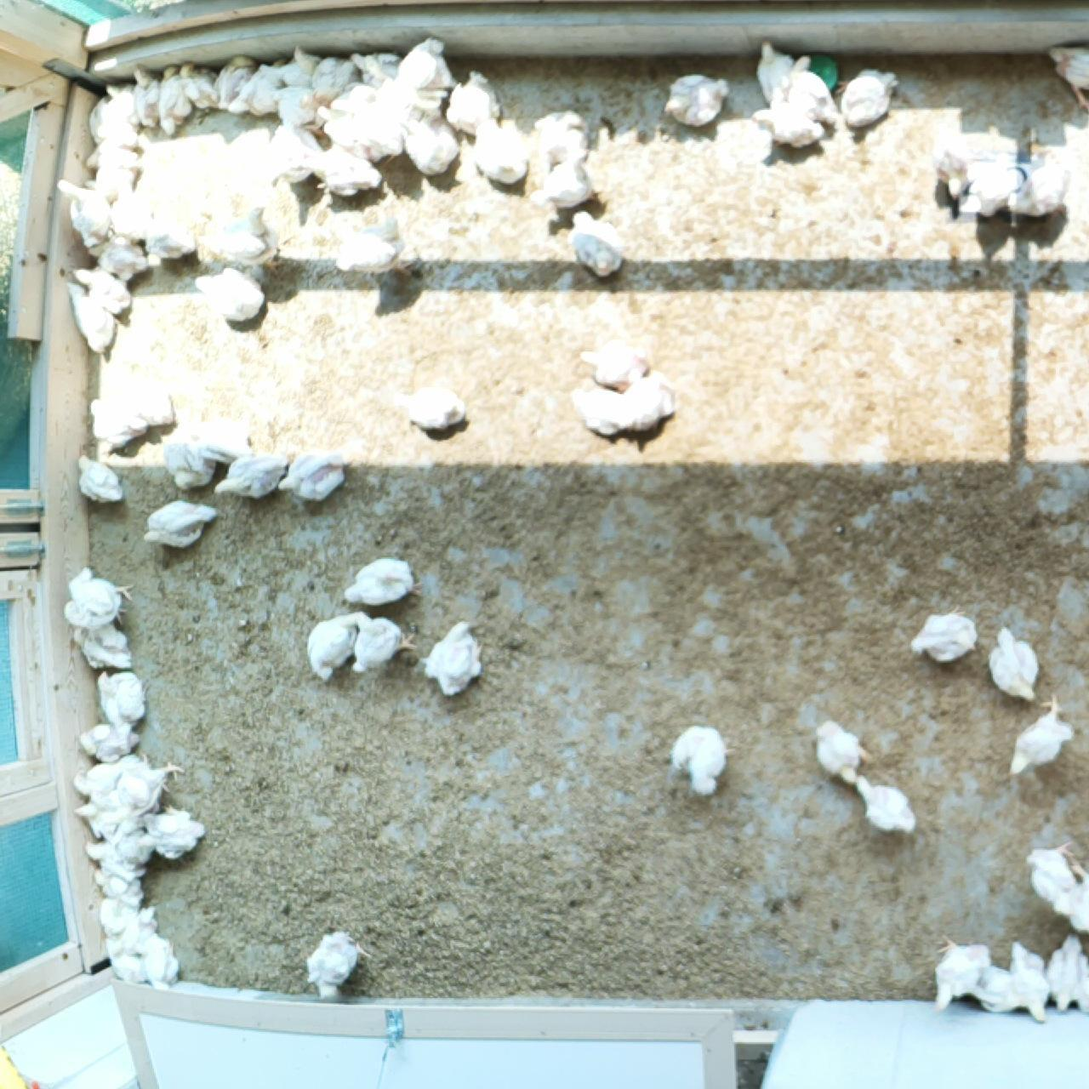chicken: (1005, 691, 1076, 787), (295, 140, 386, 201), (420, 614, 486, 698), (304, 925, 375, 1003), (665, 719, 736, 796), (59, 562, 137, 631), (921, 933, 992, 1008), (780, 51, 846, 131), (1008, 142, 1075, 220), (194, 203, 280, 263), (905, 598, 979, 667), (129, 798, 208, 862), (982, 622, 1042, 706), (387, 384, 469, 444), (391, 36, 459, 108), (924, 107, 975, 202), (851, 770, 921, 838), (810, 716, 876, 788), (301, 610, 361, 689), (1001, 934, 1053, 1025), (340, 553, 426, 608), (574, 337, 659, 392), (469, 116, 532, 190), (191, 265, 267, 325), (569, 207, 628, 283), (529, 147, 599, 211), (346, 616, 417, 679), (656, 71, 735, 127), (60, 278, 115, 356), (55, 175, 114, 247), (213, 450, 291, 504), (439, 67, 498, 136), (323, 222, 399, 275), (533, 105, 595, 169), (263, 122, 320, 191), (274, 445, 348, 498), (228, 53, 290, 116), (834, 65, 902, 122), (143, 497, 216, 550), (1023, 837, 1079, 903), (623, 365, 677, 433), (68, 617, 133, 672), (85, 394, 151, 448), (351, 94, 407, 157), (1044, 936, 1089, 1013), (120, 753, 184, 807), (94, 668, 153, 726), (1046, 857, 1089, 936), (1045, 36, 1089, 113), (157, 436, 218, 491), (974, 145, 1017, 223), (409, 117, 463, 179), (569, 378, 623, 438), (72, 263, 132, 316), (75, 449, 127, 505), (751, 33, 795, 98), (131, 373, 181, 430), (213, 52, 258, 115), (159, 61, 198, 133), (74, 721, 141, 762), (107, 182, 152, 241), (83, 834, 144, 877), (140, 218, 198, 263), (971, 961, 1020, 1014), (67, 792, 126, 834), (195, 417, 250, 462), (87, 238, 148, 278), (311, 56, 357, 107), (83, 127, 140, 167), (127, 60, 159, 131), (81, 163, 139, 201), (69, 753, 121, 795), (271, 82, 318, 128), (142, 935, 182, 989), (104, 934, 145, 985), (275, 47, 323, 89), (88, 866, 144, 901), (316, 105, 362, 147), (102, 76, 142, 124), (349, 49, 401, 85), (185, 67, 222, 110), (334, 79, 379, 111), (128, 901, 156, 946), (95, 897, 126, 934), (85, 96, 106, 140), (160, 63, 179, 86)
